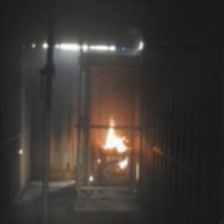fire: (96, 117, 133, 155)
